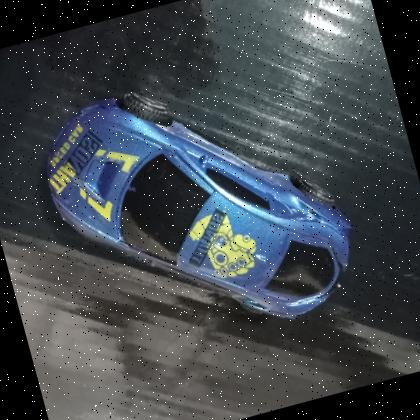Car: (22, 37, 380, 379)
